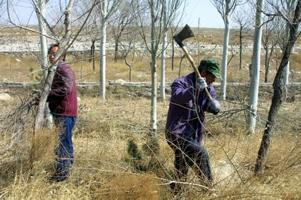person: (165, 59, 222, 199)
